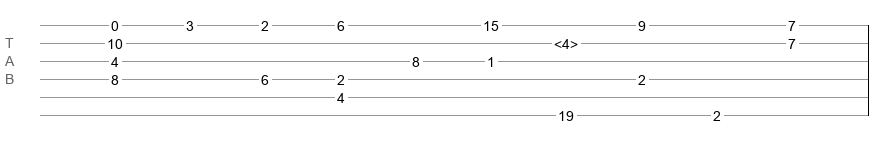0: (111, 18, 119, 28)
1: (487, 54, 495, 64)
10: (107, 36, 123, 46)
15: (483, 18, 499, 28)
19: (558, 108, 574, 118)
2: (261, 18, 269, 28), (337, 72, 345, 82), (638, 72, 646, 82), (713, 108, 721, 118)
3: (186, 18, 194, 28)
4: (111, 54, 119, 64), (337, 90, 345, 100)
6: (261, 72, 269, 82), (337, 18, 345, 28)
7: (788, 36, 796, 46), (788, 18, 796, 28)
8: (111, 72, 119, 82), (412, 54, 420, 64)
9: (638, 18, 646, 28)
harmonic: (554, 36, 578, 46)
